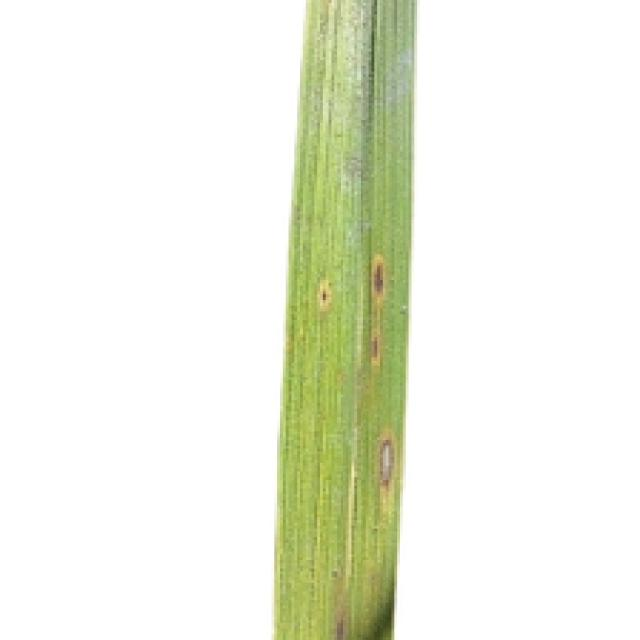Rice___Rice_Blast: (274, 0, 416, 637)
